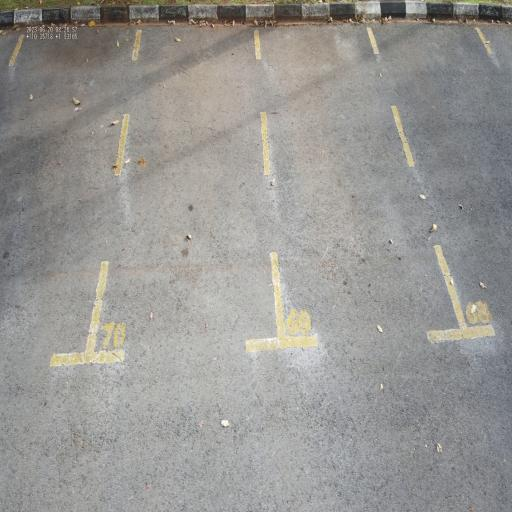Empty: (252, 17, 471, 351), (81, 24, 290, 372)
